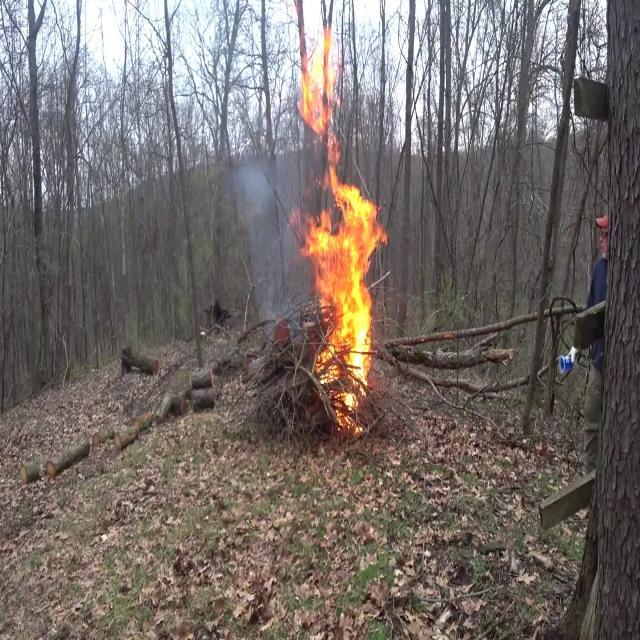Fire: (299, 19, 391, 438)
Smoke: (239, 152, 311, 333)
